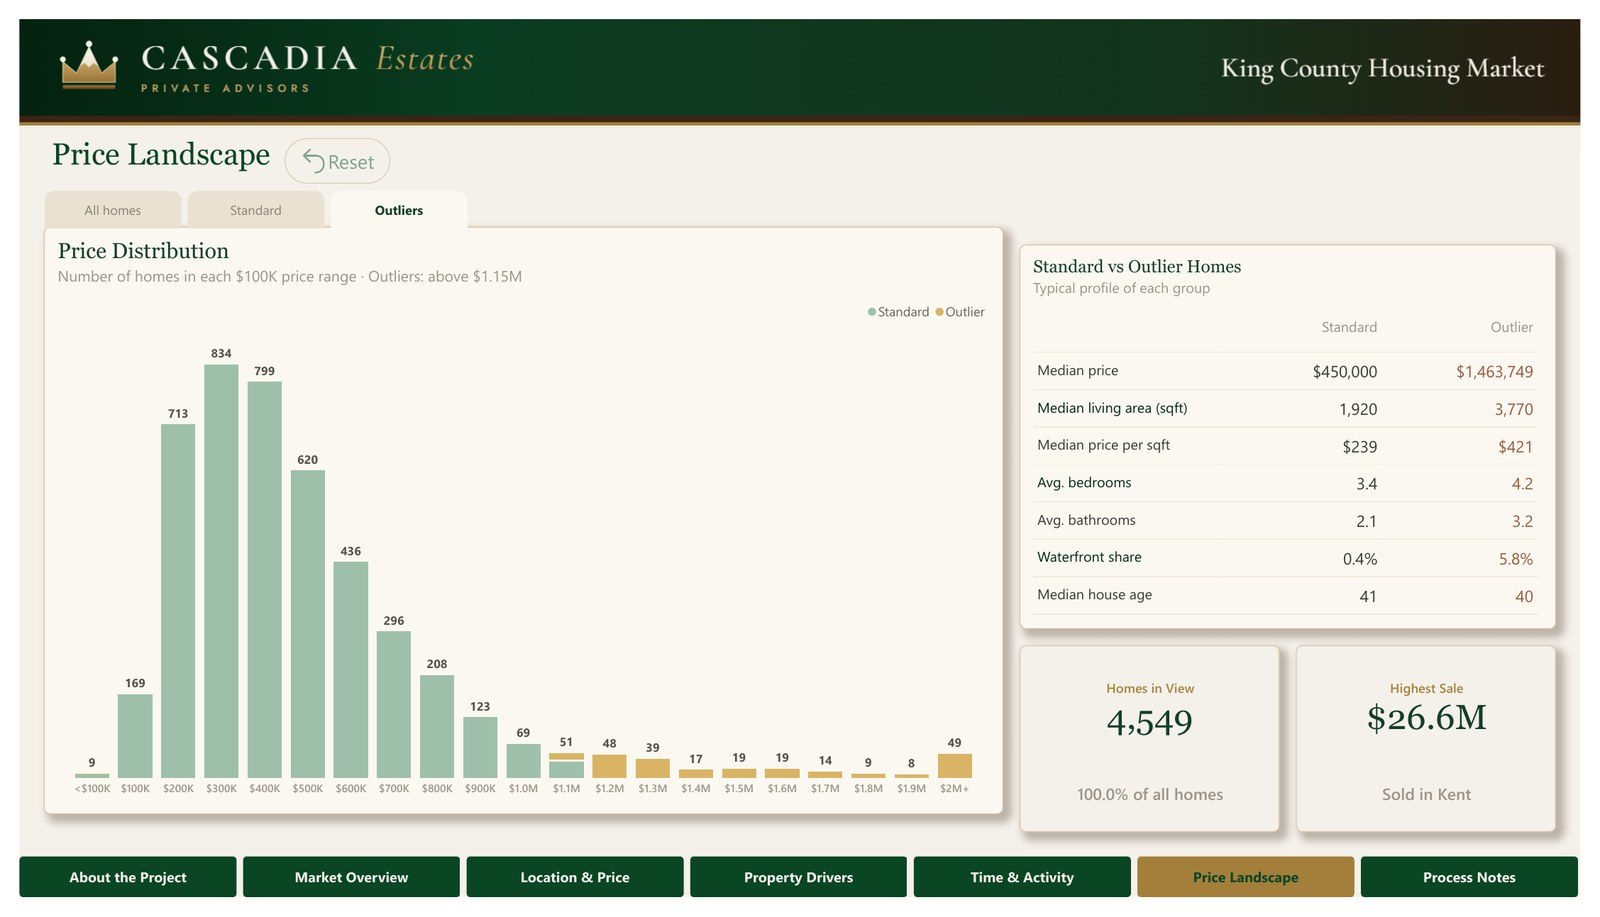

This screenshot's page, from the dashboard's own definition file:
{"tool":"powerbi","page":{"name":"Price Landscape","canvas":[1920,1080],"ordinal":5},"visuals":[{"type":"image","box":[0,0,1920,130],"z":0},{"type":"pageNavigator","box":[0,1030,1920,50],"z":1000},{"type":"columnChart","title":"Price Distribution","fields":{"Category":["Sales.Price Bin Label"],"Series":["Sales.Price Segment"],"Y":["!Measures.Homes Sold"]},"box":[30,255,1180,723],"z":2000},{"type":"pivotTable","title":"Standard vs Outlier Homes","fields":{"Columns":["Sales.Price Segment"],"Values":["!Measures.Median Price","!Measures.Median Living Area","!Measures.Median Price per SqFt","!Measures.Avg Bedrooms","!Measures.Avg Bathrooms","!Measures.Waterfront Share %","!Measures.Median House Age"]},"box":[1230,277,660,473],"z":3000},{"type":"cardVisual","fields":{"Data":["!Measures.Homes Sold"]},"box":[1230,770,320,230],"z":4000},{"type":"cardVisual","fields":{"Data":["!Measures.Highest Sale"]},"box":[1570,770,320,230],"z":5000},{"type":"textbox","box":[30,145,375,70],"z":6000},{"type":"bookmarkNavigator","box":[31,211,522,46],"z":9000},{"type":"actionButton","title":"Reset filters","box":[326,146,130,56],"z":9001}]}

Visuals, with their boxes in screenshot pixels (x1, y1, x2, y2), scaled from the page's 1920x1080 canvas onto the 1600x917 screenshot:
image: (left=0, top=0, right=1599, bottom=110)
pageNavigator: (left=0, top=875, right=1599, bottom=916)
"Price Distribution" columnChart: (left=25, top=217, right=1008, bottom=830)
"Standard vs Outlier Homes" pivotTable: (left=1025, top=235, right=1575, bottom=637)
cardVisual - !Measures.Homes Sold: (left=1025, top=654, right=1292, bottom=849)
cardVisual - !Measures.Highest Sale: (left=1308, top=654, right=1575, bottom=849)
textbox: (left=25, top=123, right=338, bottom=183)
bookmarkNavigator: (left=26, top=179, right=461, bottom=218)
"Reset filters" actionButton: (left=272, top=124, right=380, bottom=172)
